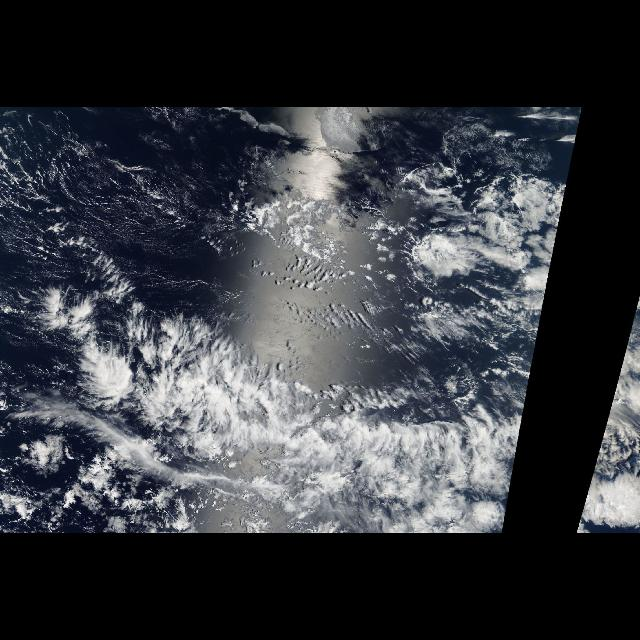Fish: (12, 290, 514, 500)
Sugar: (2, 111, 302, 286), (435, 120, 567, 170)
